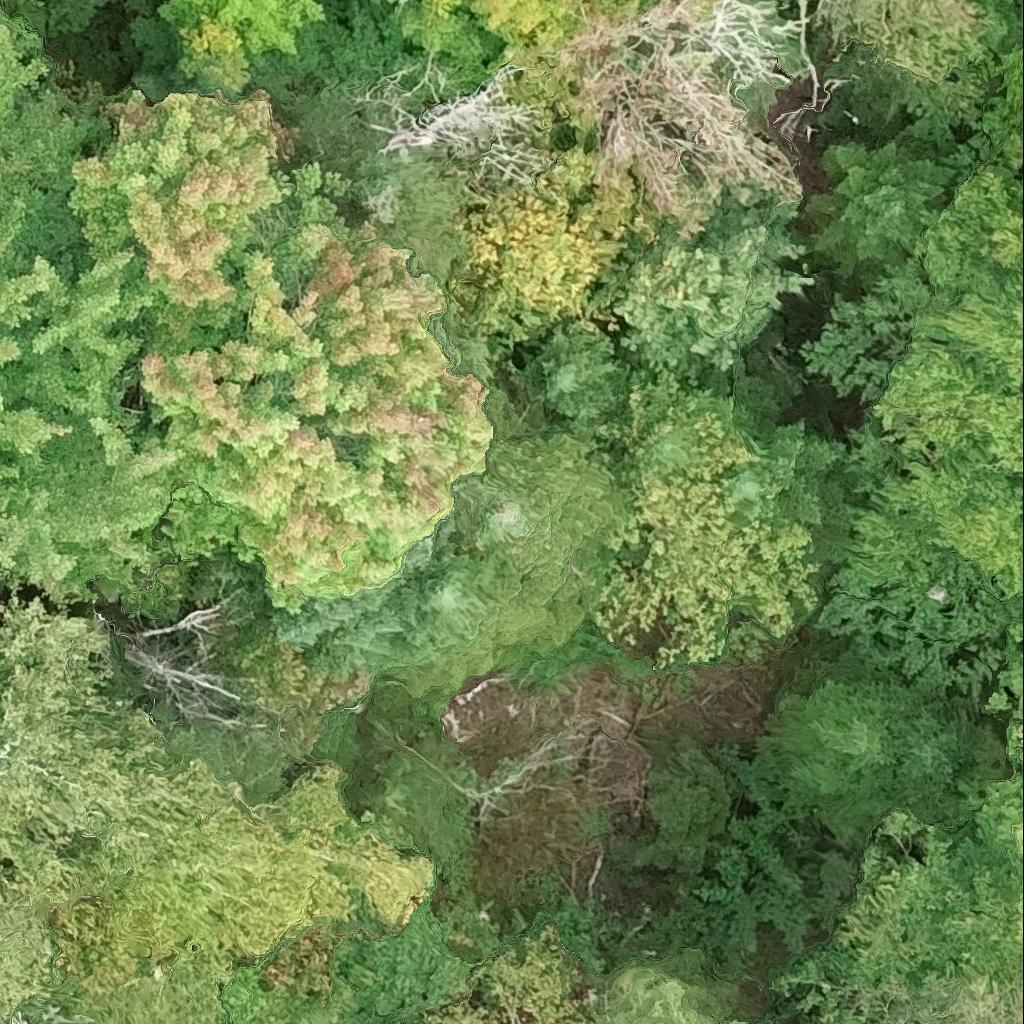crown: (140, 166, 492, 616), (41, 758, 442, 1023), (0, 30, 182, 601), (819, 345, 1023, 700), (69, 91, 301, 356), (556, 0, 811, 241), (0, 592, 192, 911), (452, 49, 647, 342), (272, 518, 585, 699), (801, 154, 1023, 404), (586, 182, 813, 384), (775, 840, 1023, 1023), (443, 391, 629, 619), (757, 679, 984, 849), (292, 80, 464, 284), (802, 0, 1022, 117), (395, 0, 656, 97), (808, 142, 958, 276), (381, 65, 531, 172), (719, 421, 860, 529), (959, 721, 1023, 949), (163, 0, 322, 90), (0, 864, 69, 1023), (598, 949, 746, 1023), (530, 319, 627, 427), (987, 0, 1023, 176), (0, 0, 43, 59), (998, 621, 1023, 721), (655, 426, 704, 476)
